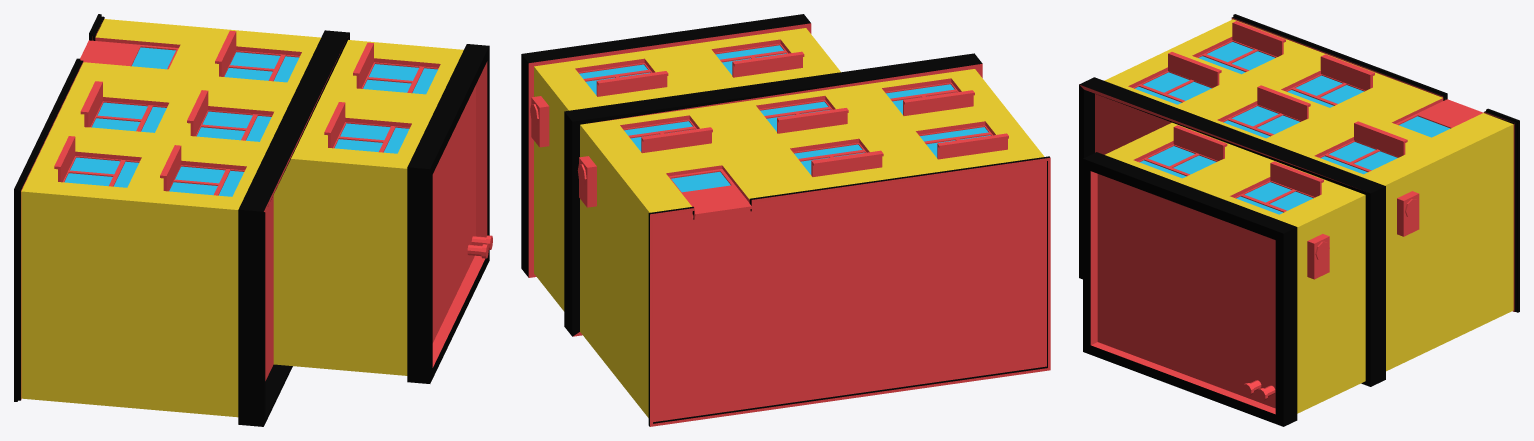
The model's file is ToyObject_170.fbx.
The picture shows the model from 3 angles, left to right: view 1: azimuth 30°, elevation 25°; view 2: azimuth 150°, elevation 25°; view 3: azimuth 270°, elevation 25°; orthographic projection. The views are drawn at different scales.
Visible parts, largest first — view 1: Object.028; view 2: Object.028; view 3: Object.028.
Boxes of the visible parts, x1,y1,x2,y2 form: Object.028: (14,14,492,426); Object.028: (521,14,1050,426); Object.028: (1079,14,1519,426).
Bounding box in the file's own units: 0.2432 × 0.1047 × 0.2055.
